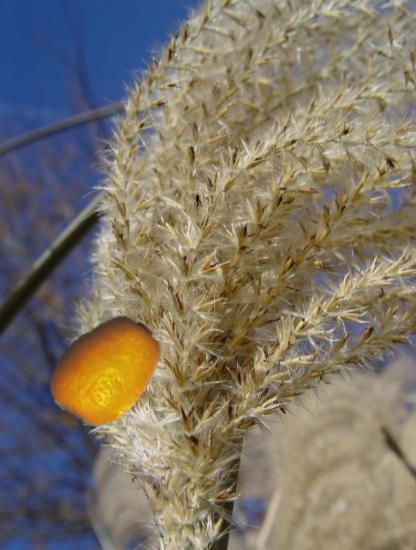Kumquats: (48, 312, 166, 430)
